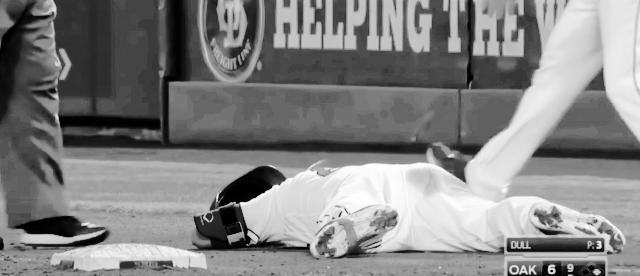jatuh: (182, 144, 628, 264)
